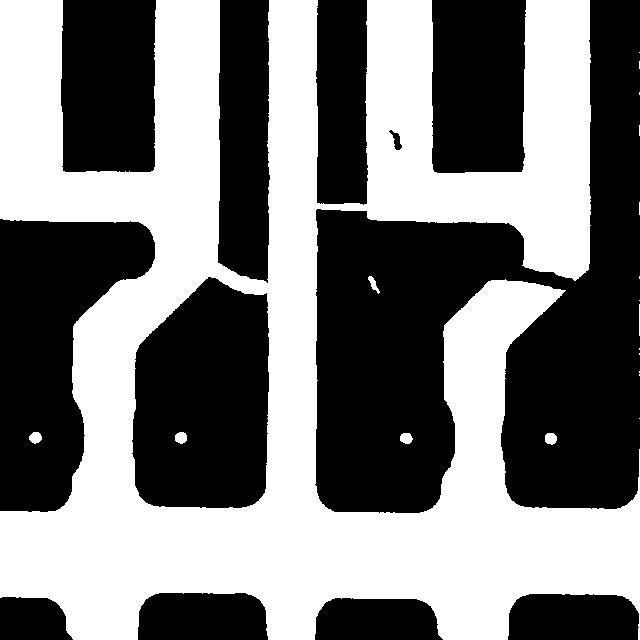copper: (379, 120, 411, 159)
open: (196, 253, 279, 304), (303, 193, 380, 220)
pin-hole: (358, 266, 389, 303)
short: (484, 255, 585, 300)
